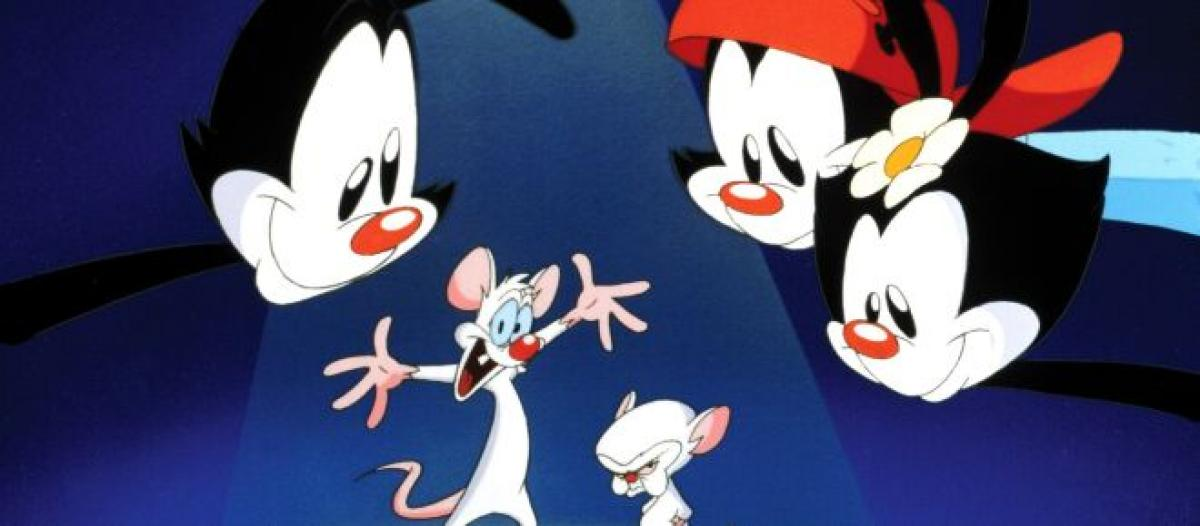cerebro: (582, 378, 736, 526)
pink: (319, 245, 607, 526)
